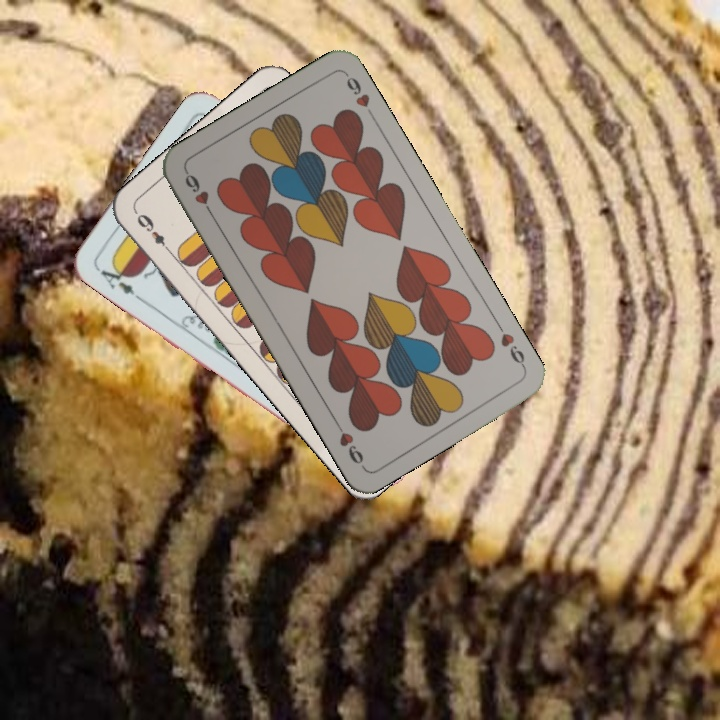E9: (131, 208, 175, 257)
EA: (92, 258, 144, 303)
H9: (180, 167, 217, 221), (492, 318, 529, 372)
